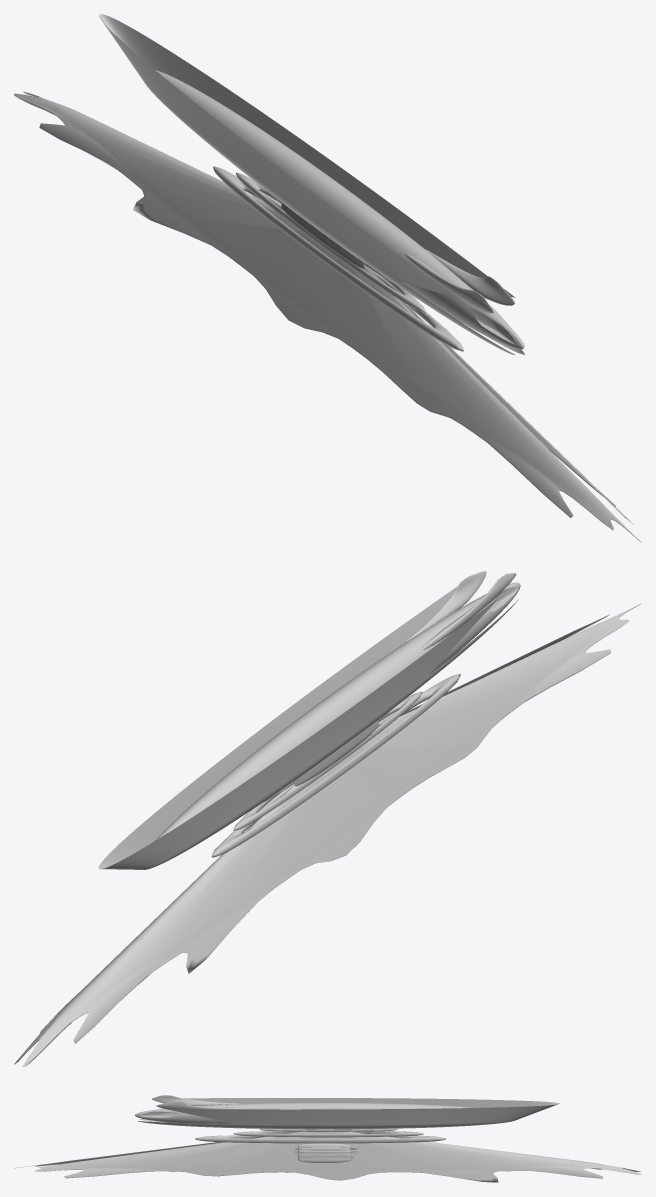
File: lv 3 fuego aparicion (1).FBX
3 renders of one model, top to bottom at view 1: azimuth 30°, elevation 25°; view 2: azimuth 150°, elevation 25°; view 3: azimuth 270°, elevation 25°, orthographic. The views are drawn at different scales.
Parts seen in each view (by area): view 1: cap2, cap, head, rings, cuerno2, cuerno, brazo derecho mitad; view 2: cap2, cap, head, rings, cuerno2, cuerno, brazo derecho mitad; view 3: cap2, cap, rings, head, Capsule001, Torus007, cuerno, cuerno2, Left arm.
Boxes of the visible parts, x1,y1,x2,y2 form: cap2: (14,91,641,542); cap: (99,14,524,354); head: (155,70,524,349); rings: (213,166,463,351); cuerno2: (425,249,515,305); cuerno: (404,253,493,313); brazo derecho mitad: (281,202,364,268); cap2: (14,603,641,1066); cap: (98,586,518,869); head: (155,582,520,840); rings: (211,674,460,857); cuerno2: (404,571,486,643); cuerno: (421,573,516,649); brazo derecho mitad: (293,721,378,786); cap2: (14,1129,641,1182); cap: (138,1098,559,1129); rings: (195,1128,446,1143); head: (135,1102,475,1123); Capsule001: (298,1143,351,1159); Torus007: (295,1147,357,1158); cuerno: (152,1095,240,1105); cuerno2: (156,1101,242,1109); Left arm: (298,1159,350,1162).
Size of the model in its own units: 13.36 by 32.54 by 239.
